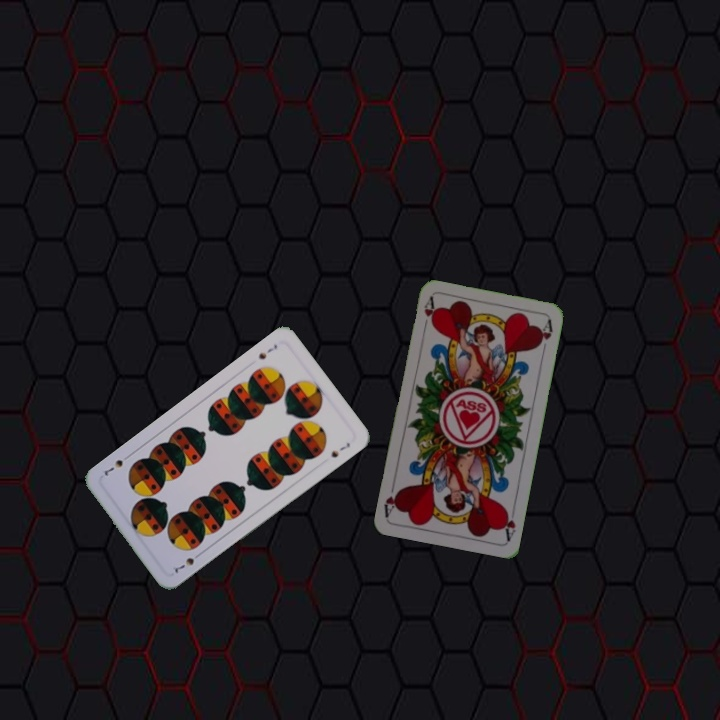HA: (419, 294, 438, 334), (498, 505, 518, 542)
S7: (168, 548, 204, 577), (254, 340, 280, 362)
